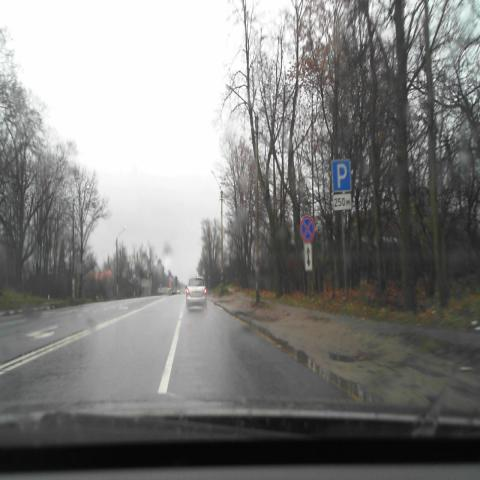8_1_1: (333, 194, 351, 210)
